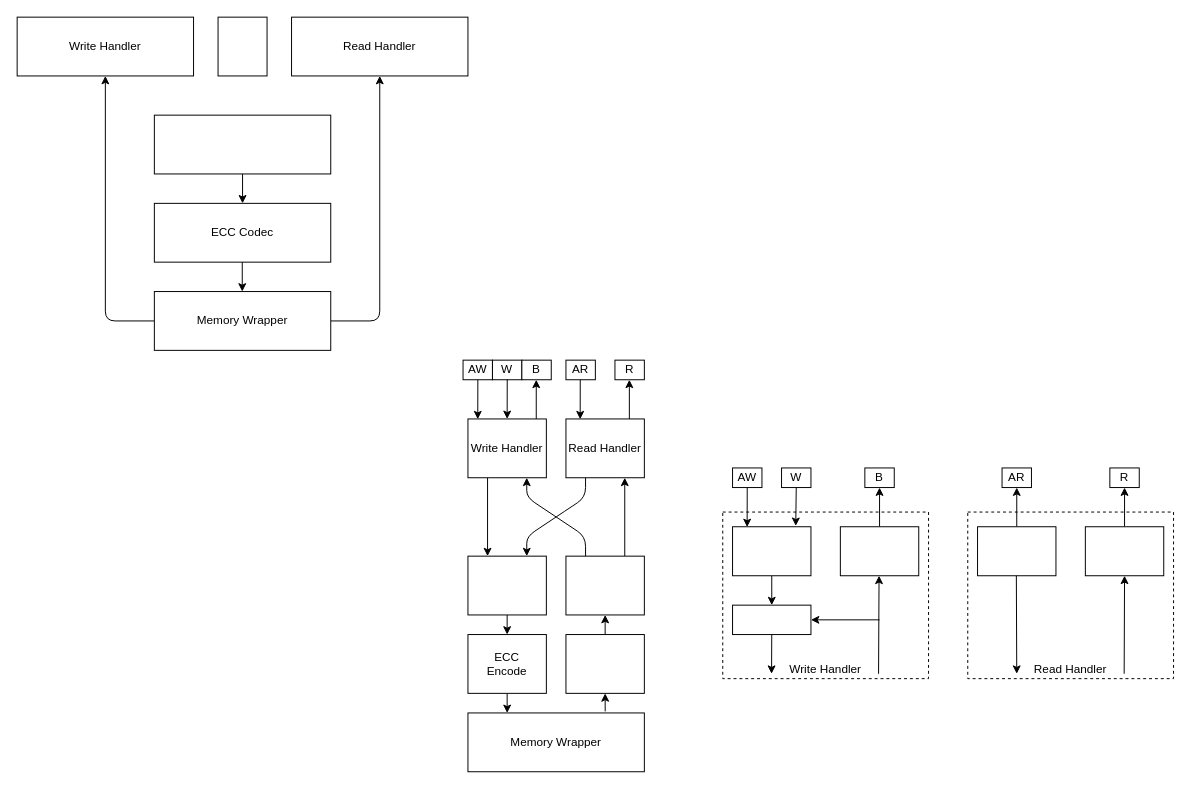
Some shapes in this 1191 by 789 pixel diagram are drawn without their labels. The box of each missing label's shape, as (x1, y1, x2, y2) in pixels:
Arbiter: (467, 555, 546, 615)
Clk Gating: (217, 16, 267, 76)
Decoder: (565, 555, 644, 615)
ECC Decode: (565, 634, 644, 693)
R/W Arbiter: (153, 114, 331, 174)
Read Rsp Gen: (1084, 526, 1164, 576)
Read Splitter: (977, 526, 1056, 576)
RMW: (732, 604, 811, 635)
Write Rsp Gen: (839, 526, 919, 576)
Write Splitter: (732, 526, 811, 576)
